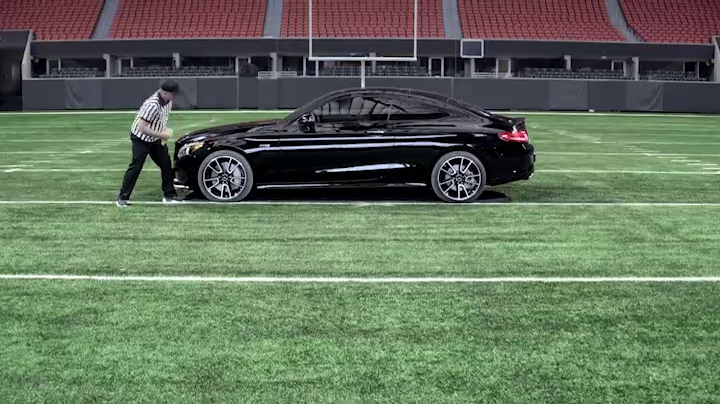amg: (173, 87, 537, 203)
